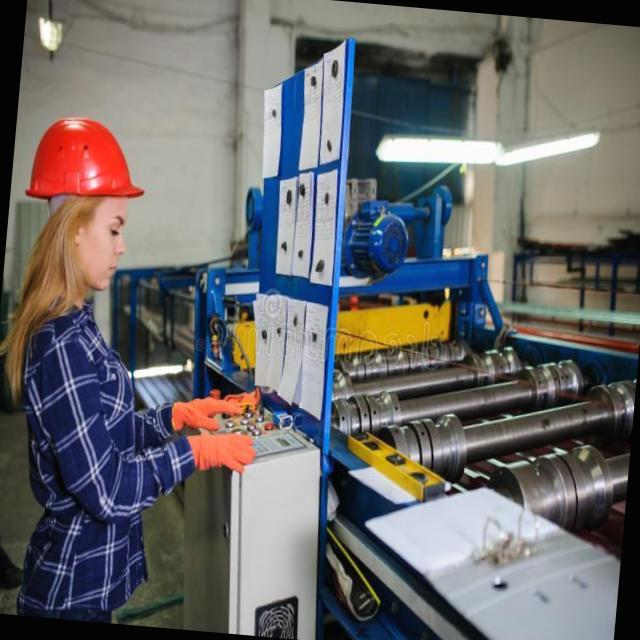helmet: (20, 106, 158, 238)
no-vest: (1, 289, 158, 616)
